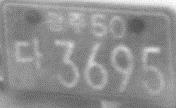0: (109, 14, 127, 40)
3: (52, 38, 79, 88)
5: (141, 45, 166, 97), (90, 13, 109, 38)
6: (83, 40, 110, 91)
9: (109, 44, 136, 94)
광주_O: (41, 8, 87, 36)
다: (13, 36, 45, 74)
